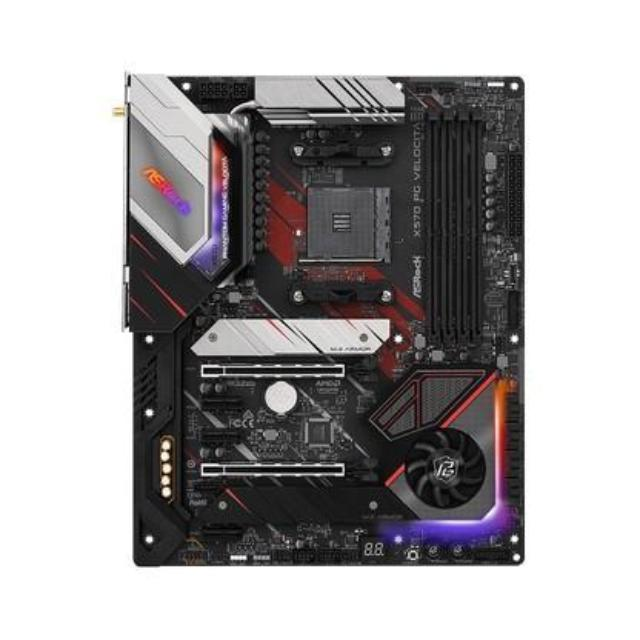Mainboard: (111, 59, 534, 582)
